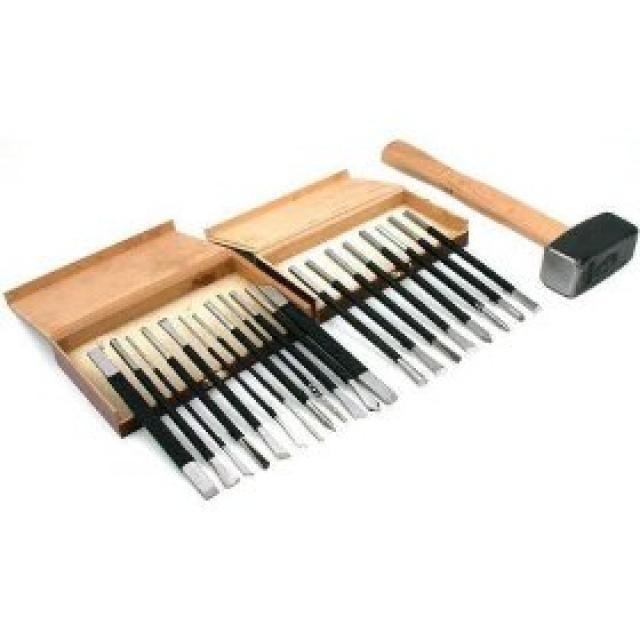hammer: (368, 89, 640, 304)
